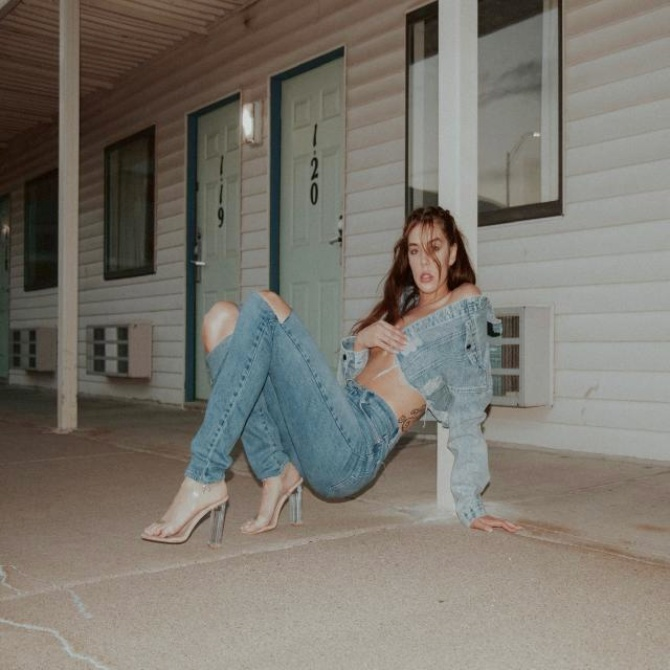Crop_Top: (354, 284, 451, 435)
Sleeveless: (373, 280, 499, 335)
ripped_pants: (185, 291, 402, 504)
